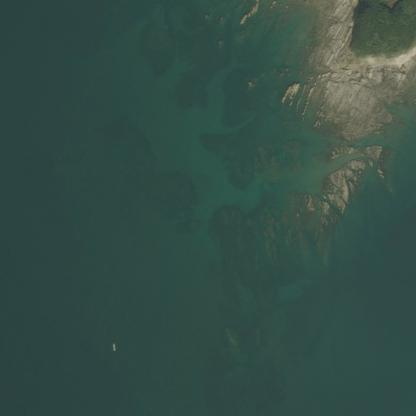ship: (112, 342, 115, 351)
